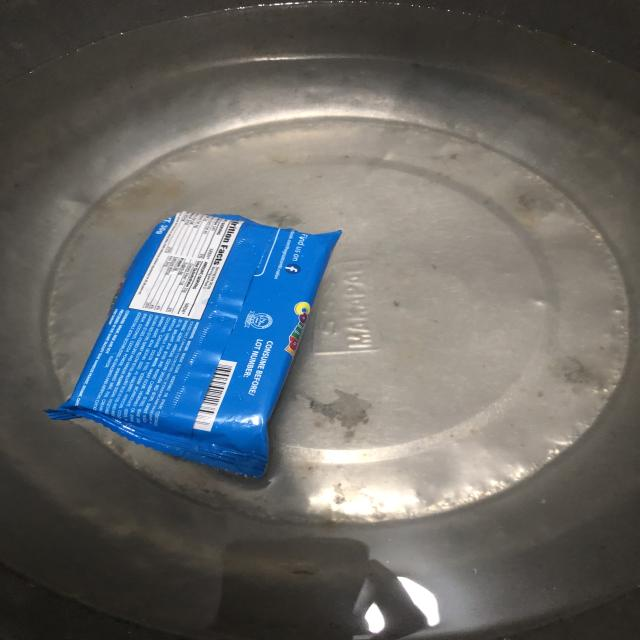Plastic Wrapper: (55, 203, 350, 491)
